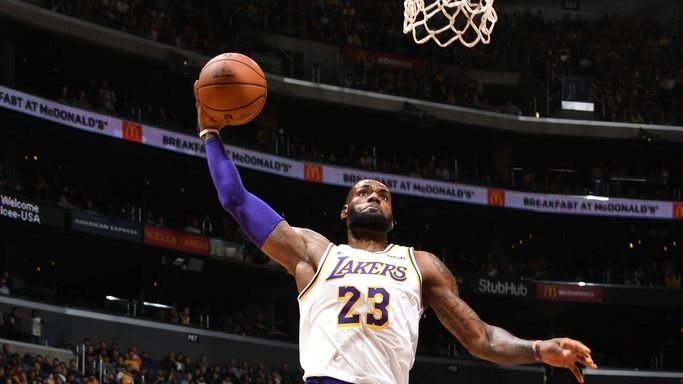Basketball: (192, 48, 271, 128)
